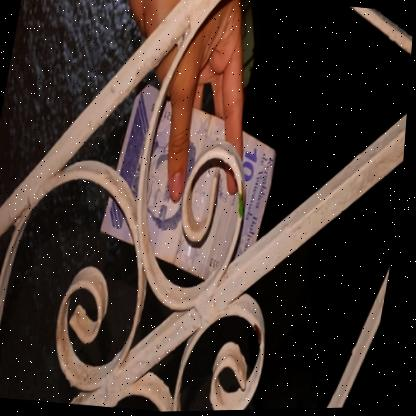vef_front: (92, 75, 290, 299)
